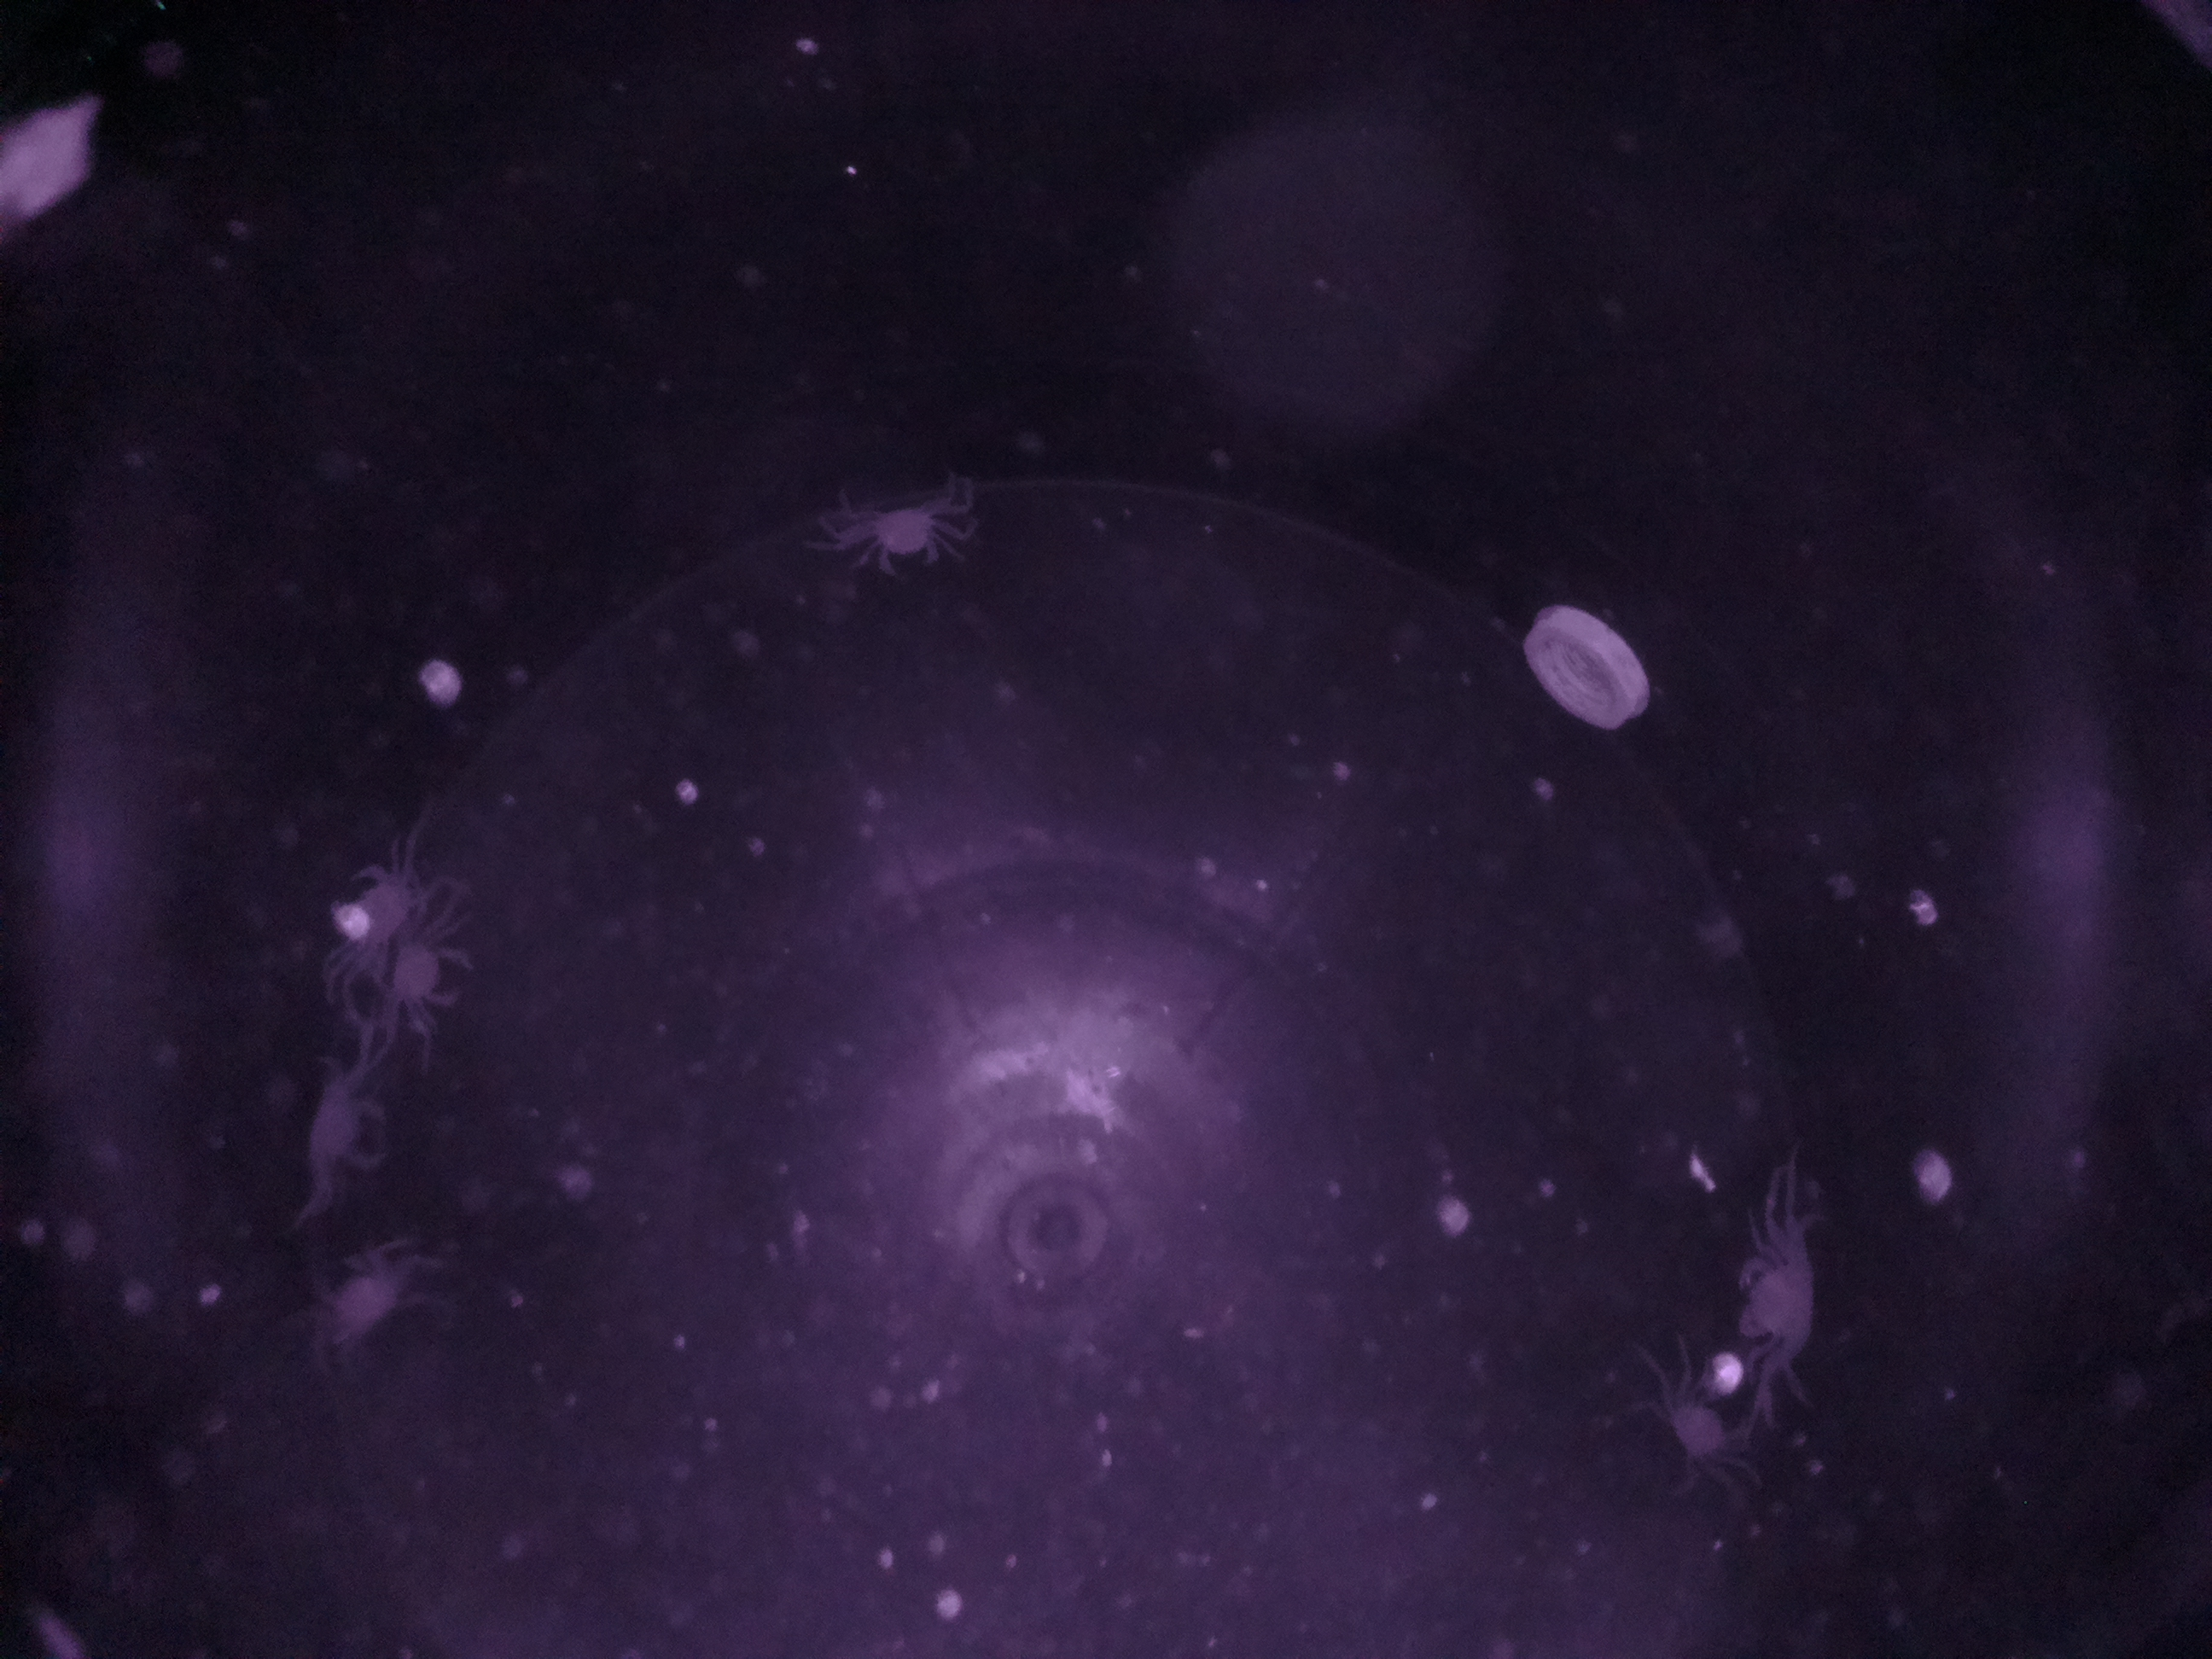Crab: (369, 906, 510, 1030), (1717, 1225, 1832, 1363), (287, 1070, 404, 1188), (855, 484, 963, 592)
